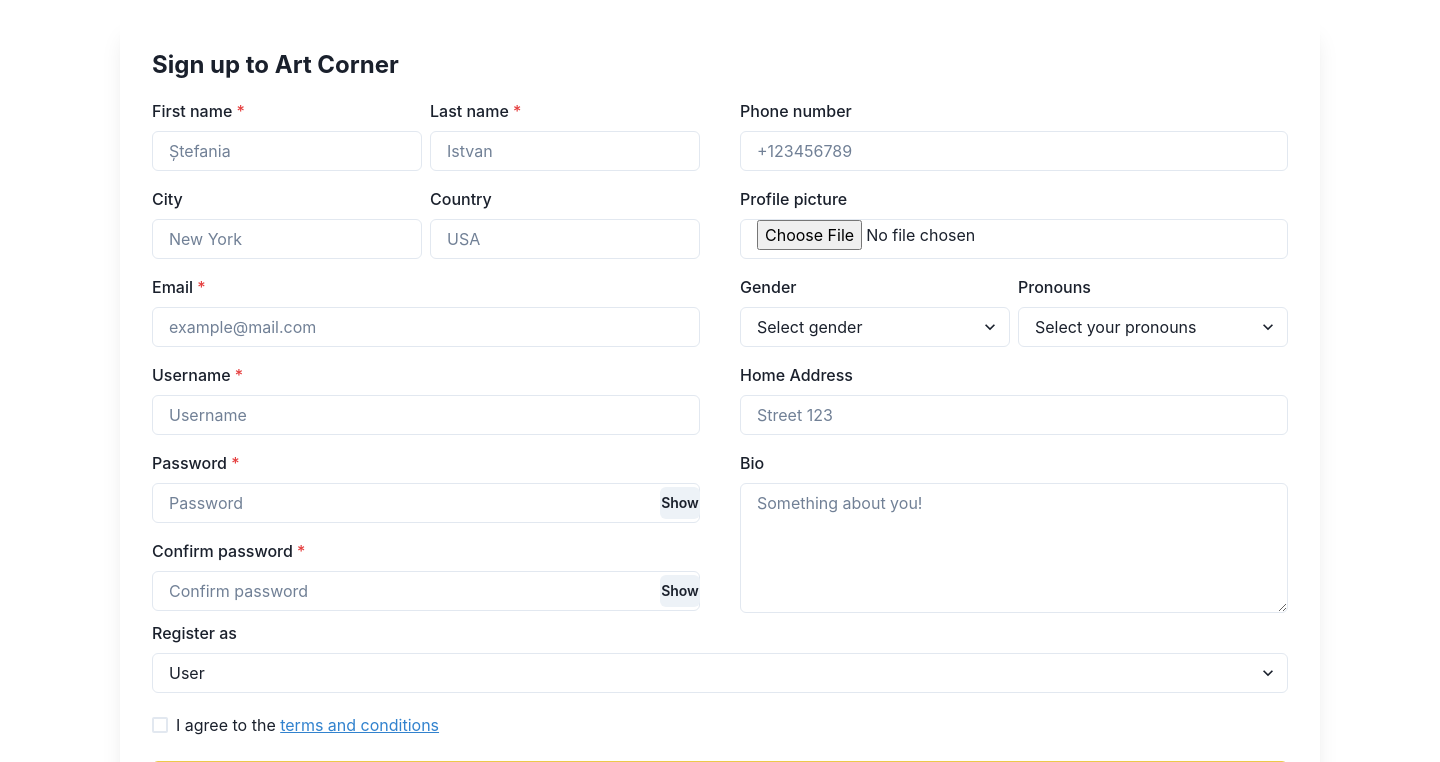
Test: SignupCard › should display validation error if passwords do not match
In the field labelled "First name *": (287, 151) 152,131 -> 422,171, type "Test"
In the field labelled "Last name *": (565, 151) 430,131 -> 700,171, type "User"
In the field labelled "Username *": (426, 415) 152,395 -> 700,435, type "testuser"
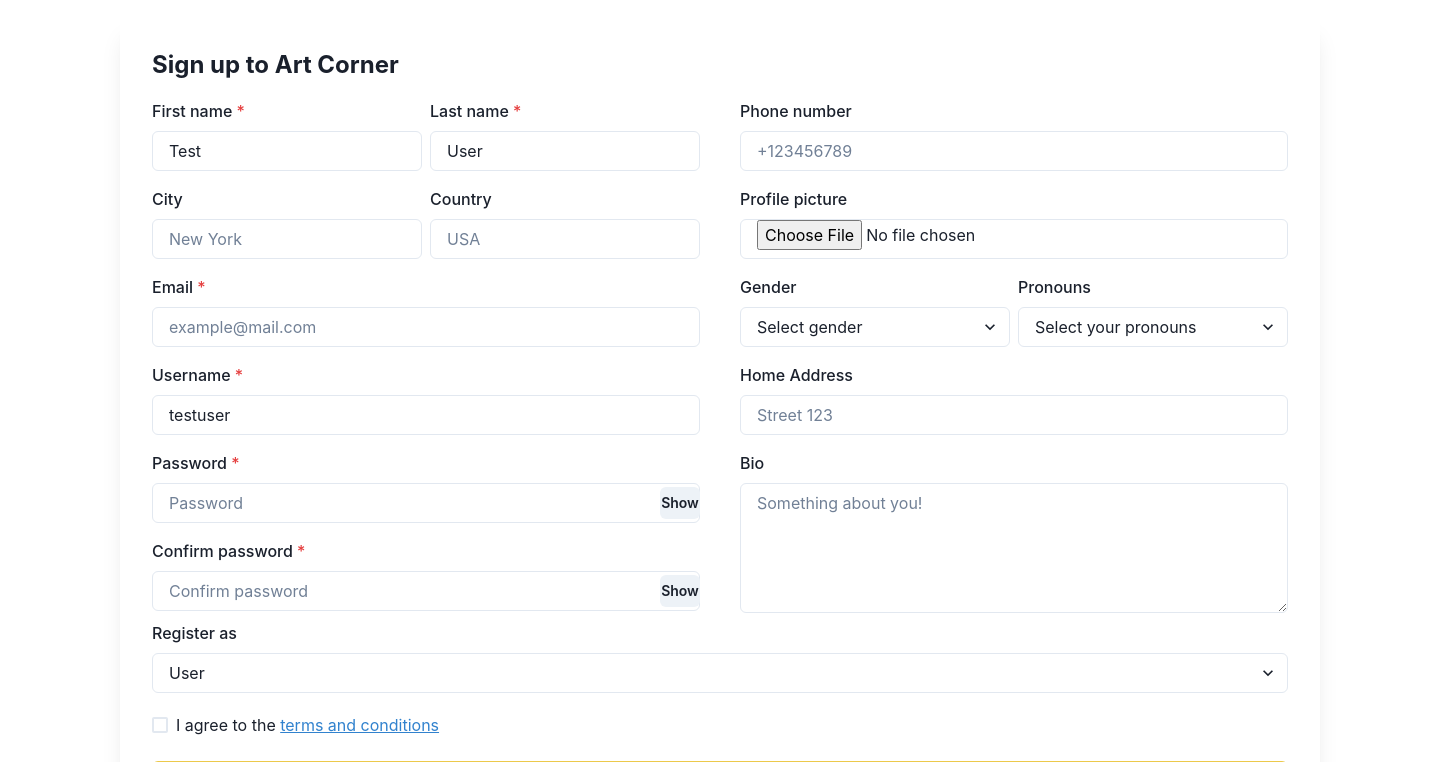
In the field labelled "Email *": (426, 327) 152,307 -> 700,347, type "test@example.com"
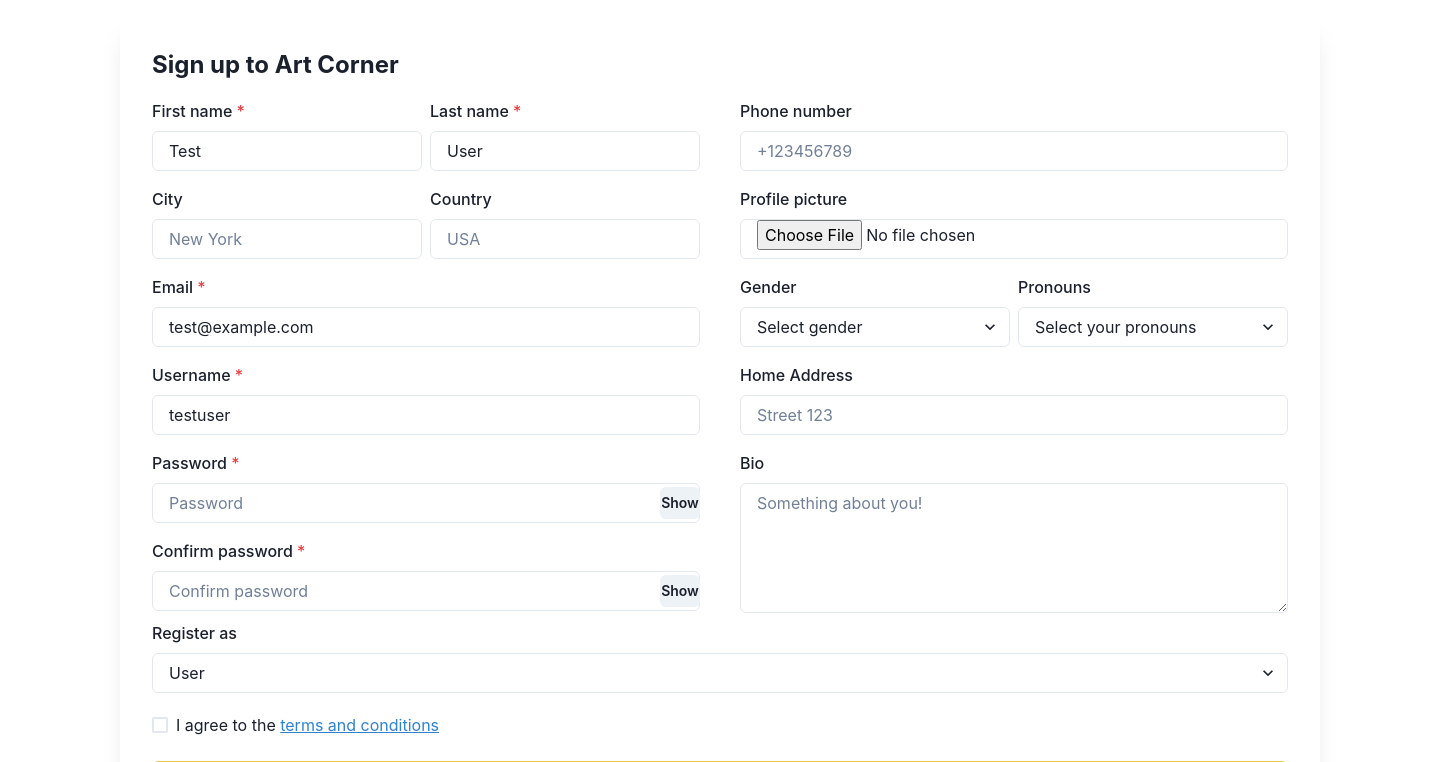
In the password field labelled "Password *": (426, 503) 152,483 -> 700,523, type "Password123!"
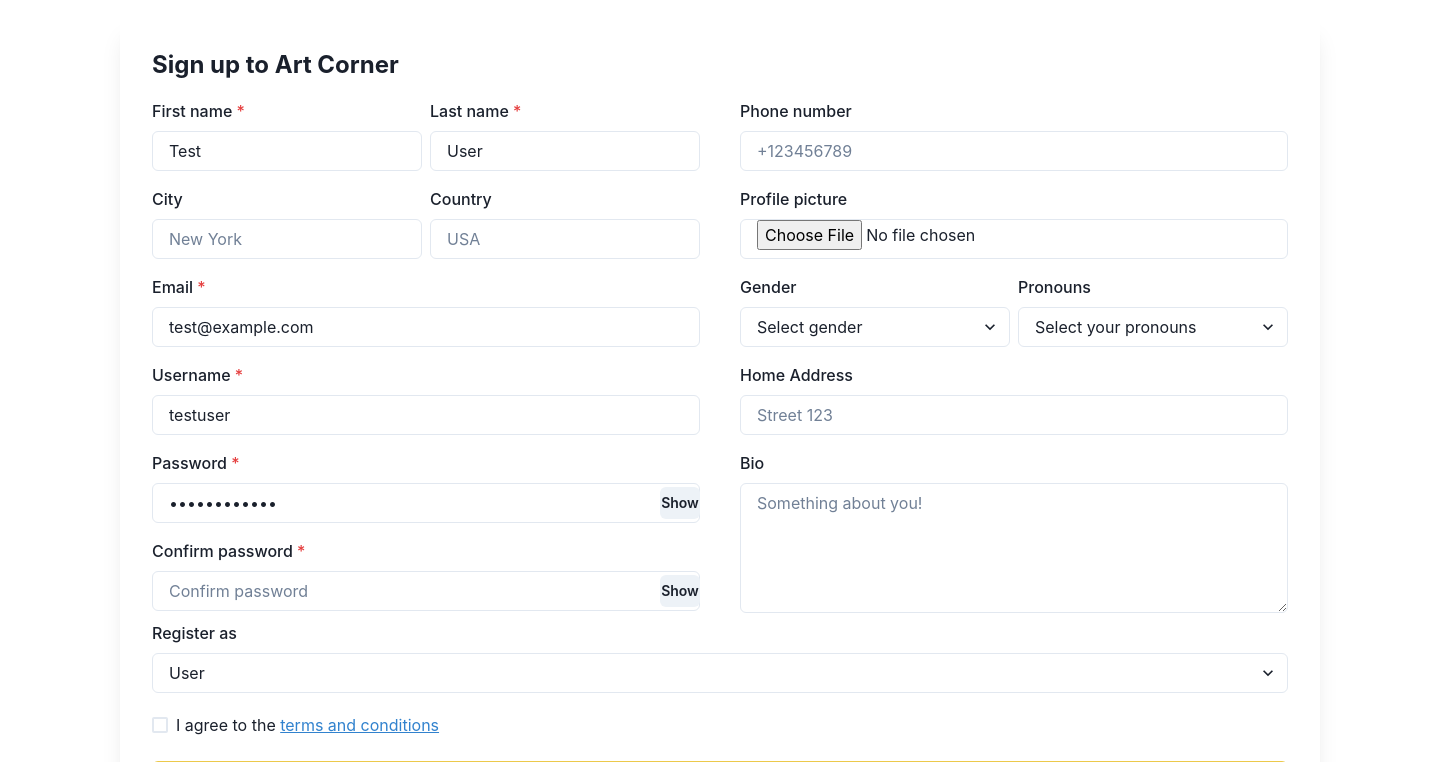
In the password field labelled "Confirm password *": (426, 591) 152,571 -> 700,611, type "Password123"
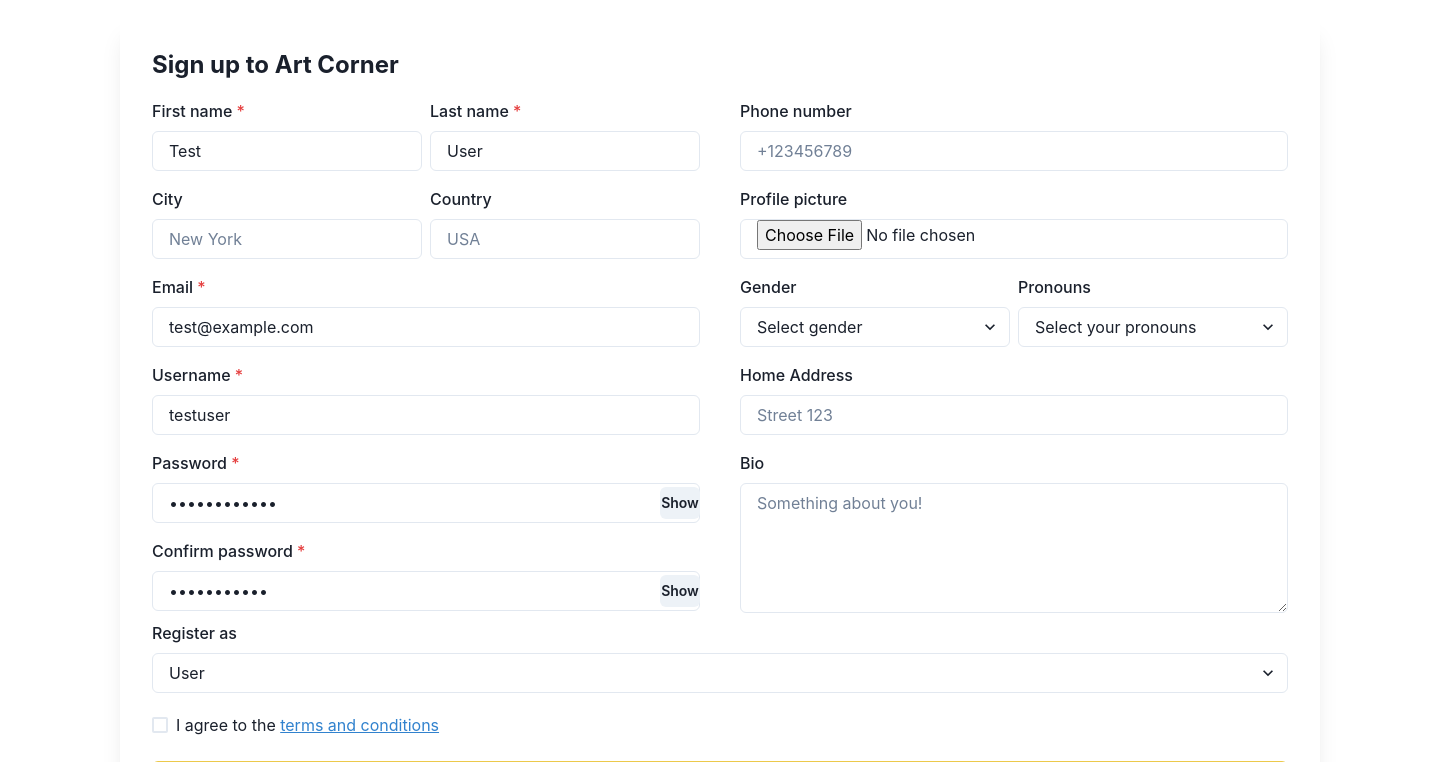
Click the checkbox labelled "I agree to the terms and conditions": (296, 725) 152,713 -> 439,737
(page scrolled)
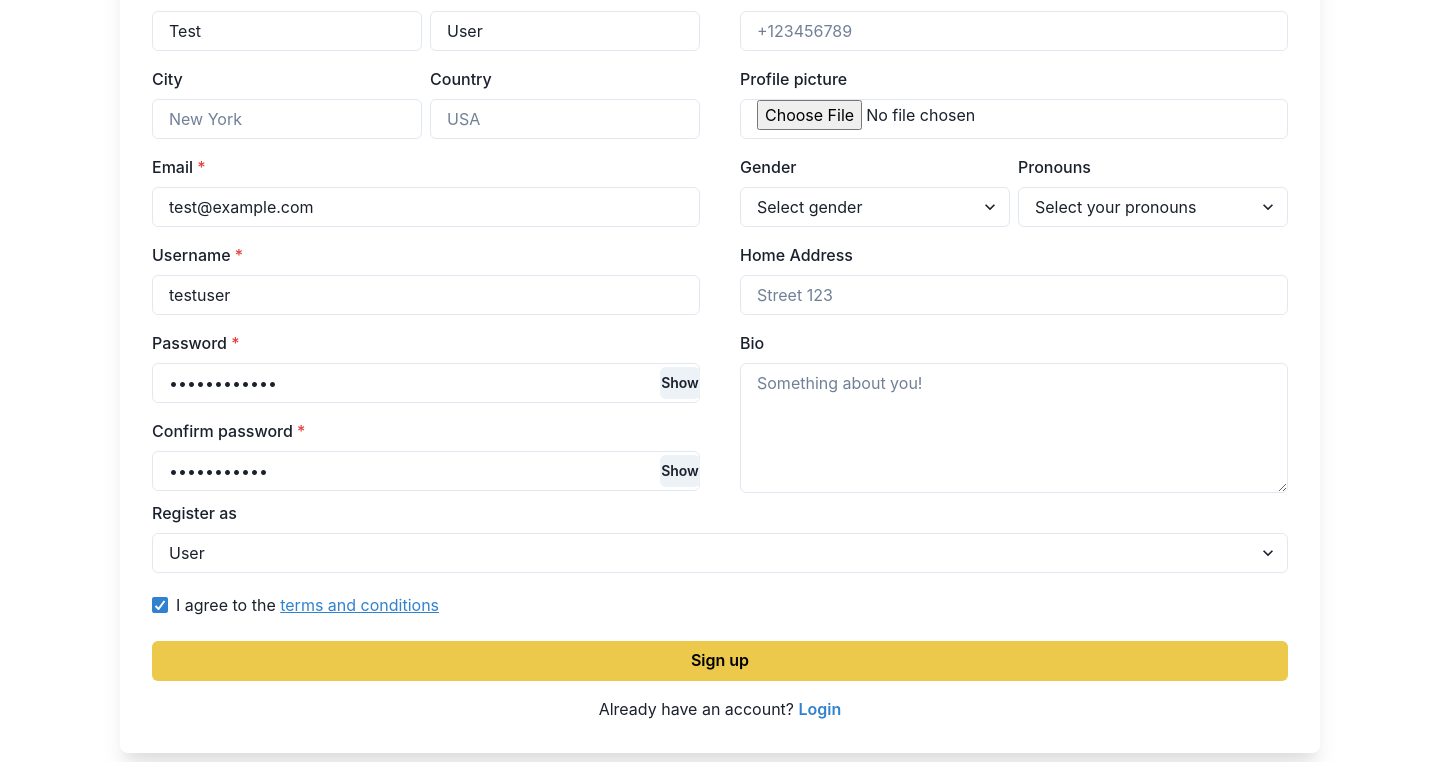
Click the button "Sign up": (720, 661) 152,641 -> 1288,681
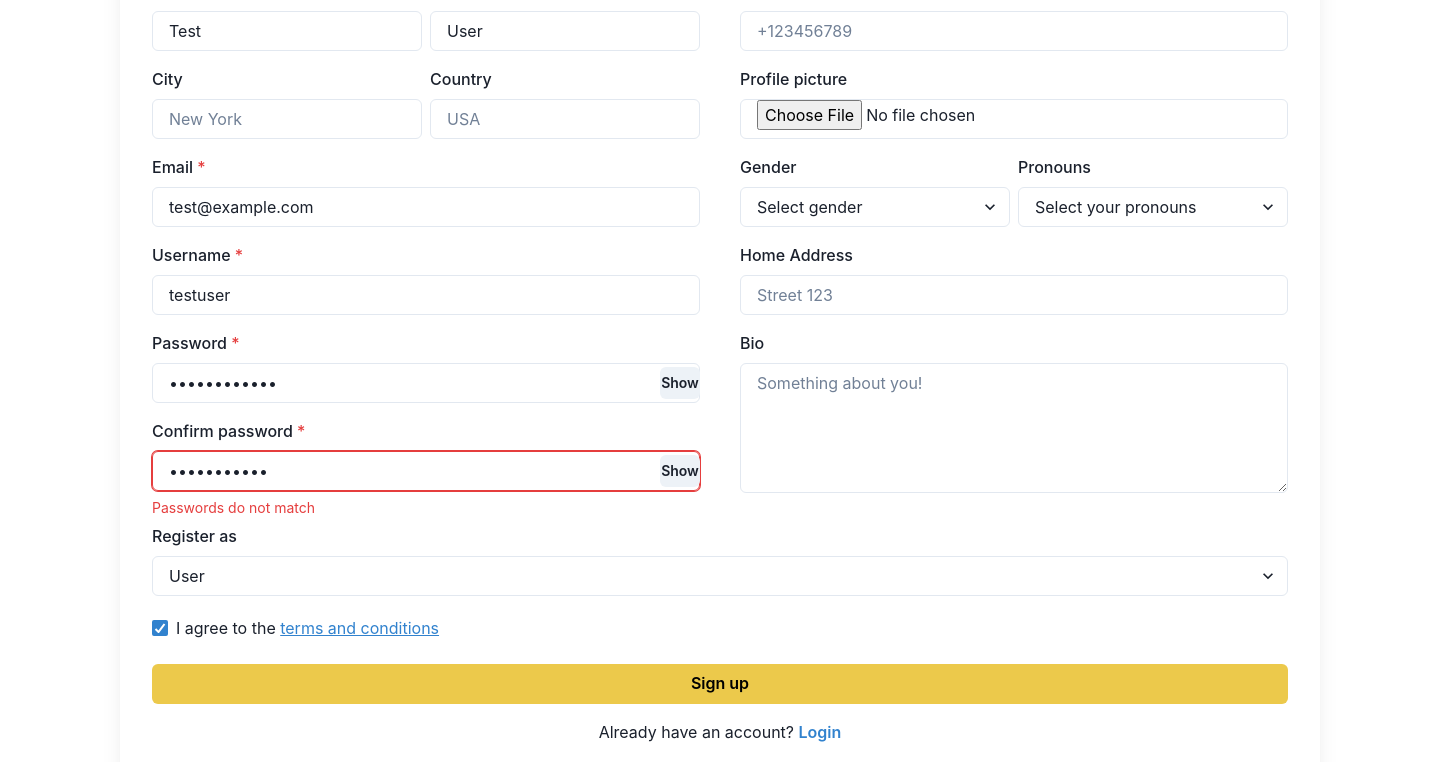
Result: the text "Passwords do not match" is shown at 152,499 -> 315,516
